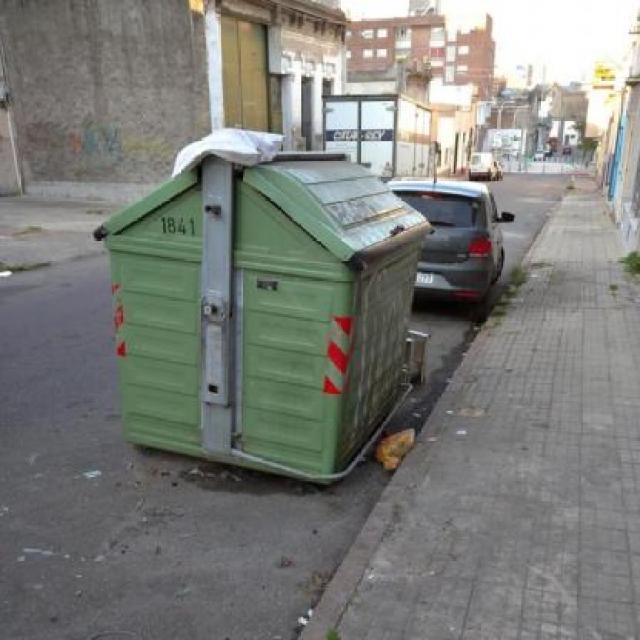garbage: (156, 105, 316, 199), (365, 423, 442, 478)
